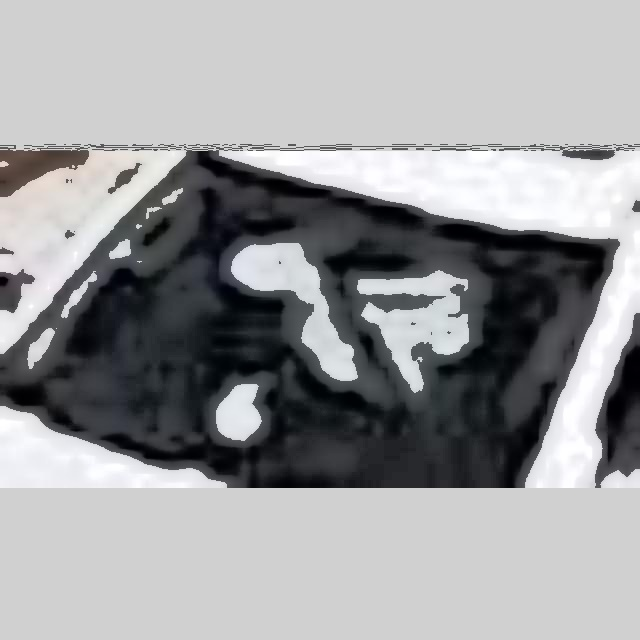pakai: (222, 213, 480, 418)
